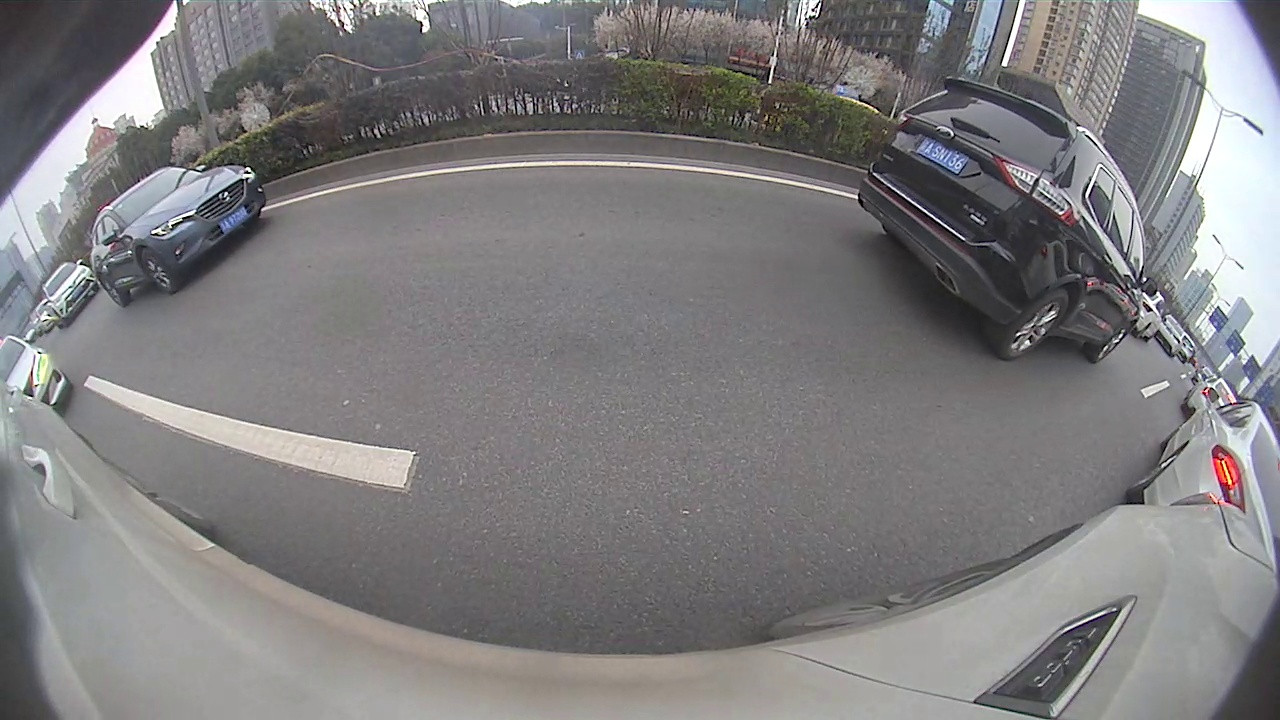car: (855, 76, 1160, 366), (1123, 386, 1278, 573), (88, 161, 268, 306), (38, 258, 101, 330)
front: (138, 251, 172, 293), (1095, 325, 1132, 363)
rear: (1002, 291, 1077, 359)
